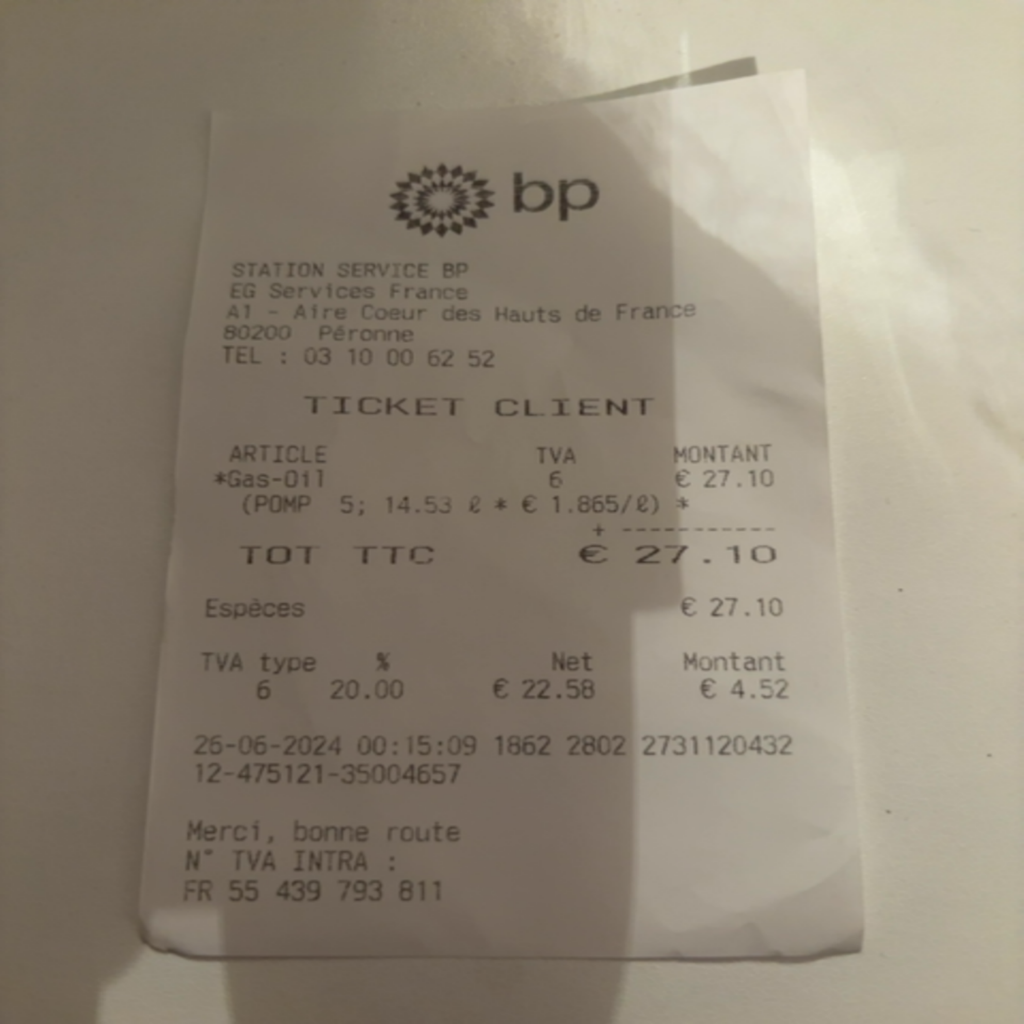recipt: (138, 75, 862, 959)
